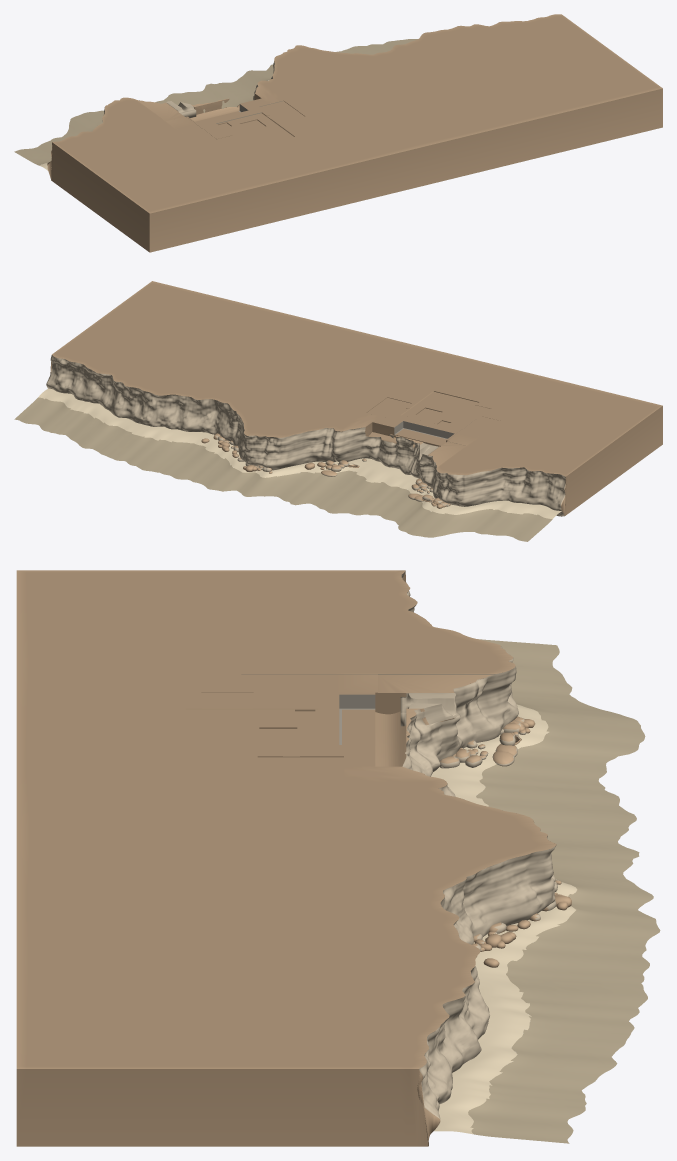
Rendered from coast.glb.
3 renders of one model, top to bottom at view 1: azimuth 30°, elevation 25°; view 2: azimuth 150°, elevation 25°; view 3: azimuth 270°, elevation 25°, orthographic. The views are drawn at different scales.
Parts seen in each view (by area): view 1: coast_shared_golden coastal sandstone, coast_shared_dry beach sand; view 2: coast_shared_golden coastal sandstone, coast_shared_dry beach sand; view 3: coast_shared_golden coastal sandstone, coast_shared_dry beach sand.
Part boxes in pixels (<box>): coast_shared_golden coastal sandstone: <box>47,14,662,252</box>; coast_shared_dry beach sand: <box>14,39,417,170</box>; coast_shared_golden coastal sandstone: <box>46,281,662,516</box>; coast_shared_dry beach sand: <box>14,388,561,541</box>; coast_shared_golden coastal sandstone: <box>16,570,571,1146</box>; coast_shared_dry beach sand: <box>431,639,660,1143</box>.
Bounding box in the file's own units: 112 × 8.14 × 61.12.
